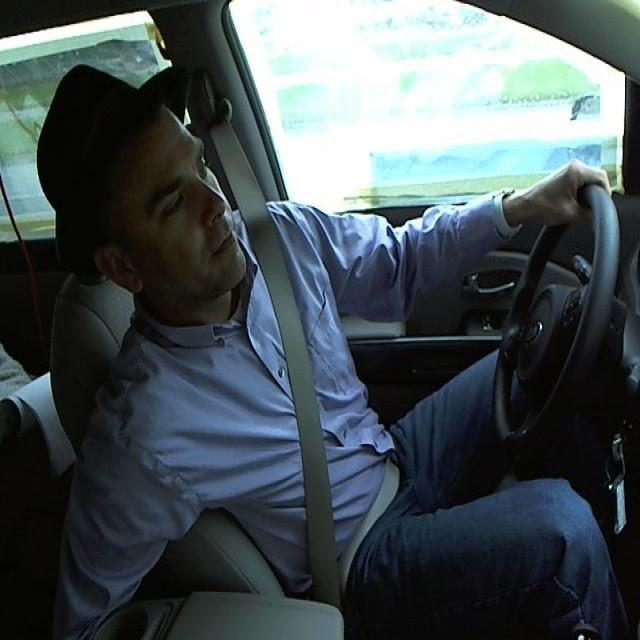seatbelt: (237, 207, 369, 585)
